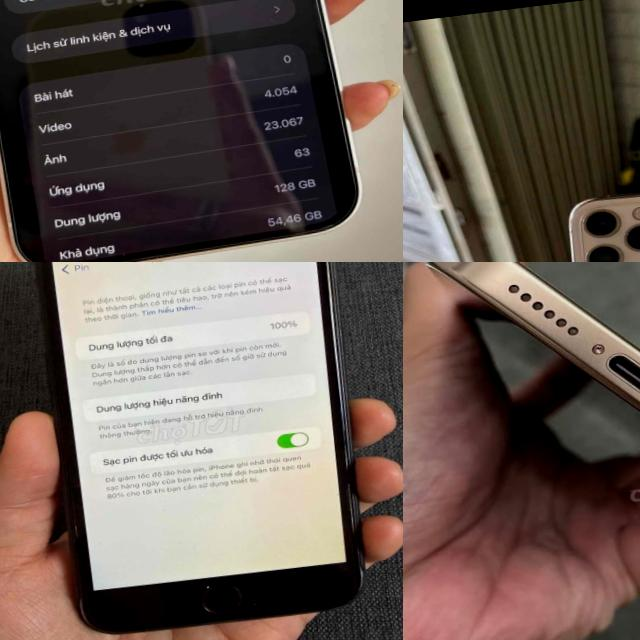gen_14: (0, 0, 372, 262)
gen_16: (416, 262, 640, 548)
gen_6: (35, 262, 362, 631)
